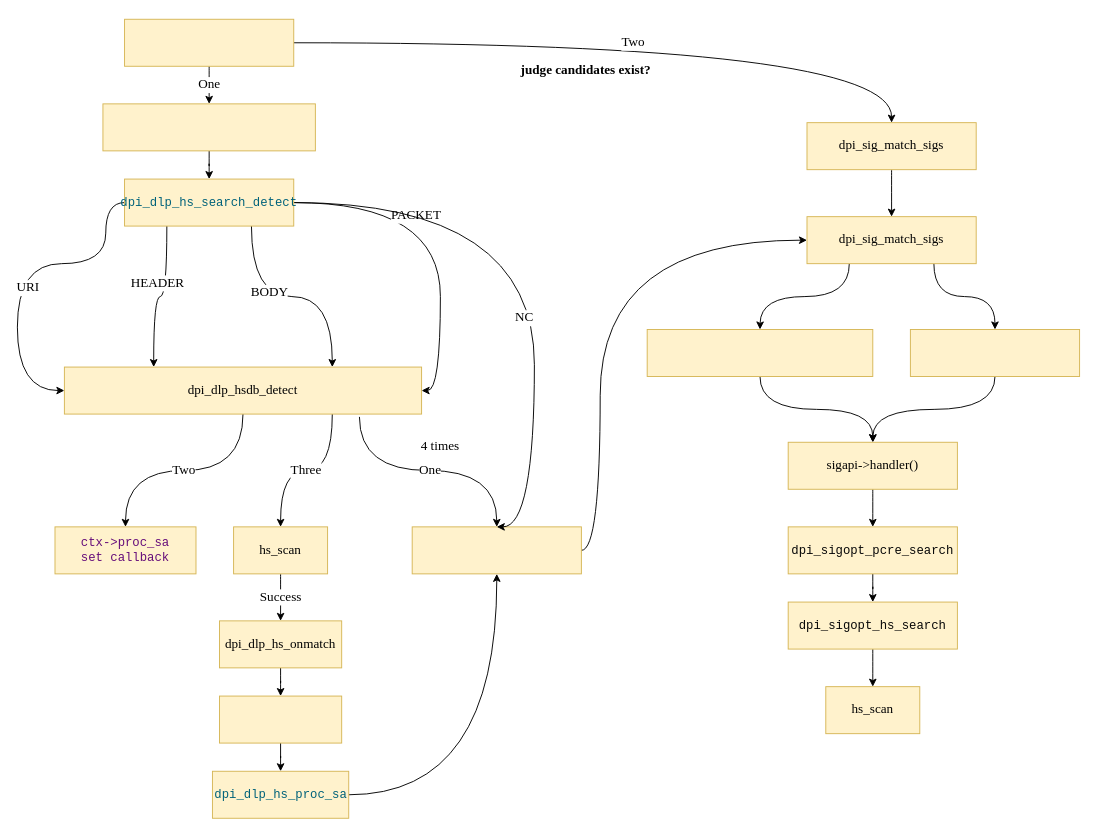
Some shapes in this 1104 by 835 pixel diagram are drawn without their labels. The centre of each missing label's shape, as x and y in pixels:
ctx -> proc_sa call: (280,719)
dpi_dlp_add_candidate: (496,550)
dpi_dlp_match_non_type_dlpopt: (759,352)
dpi_dlp_match_type_dlpopt: (994,352)
dpi_dlp_search_detector_tree N functions ...: (208,127)
dpi_process_detector key function: (209,42)
